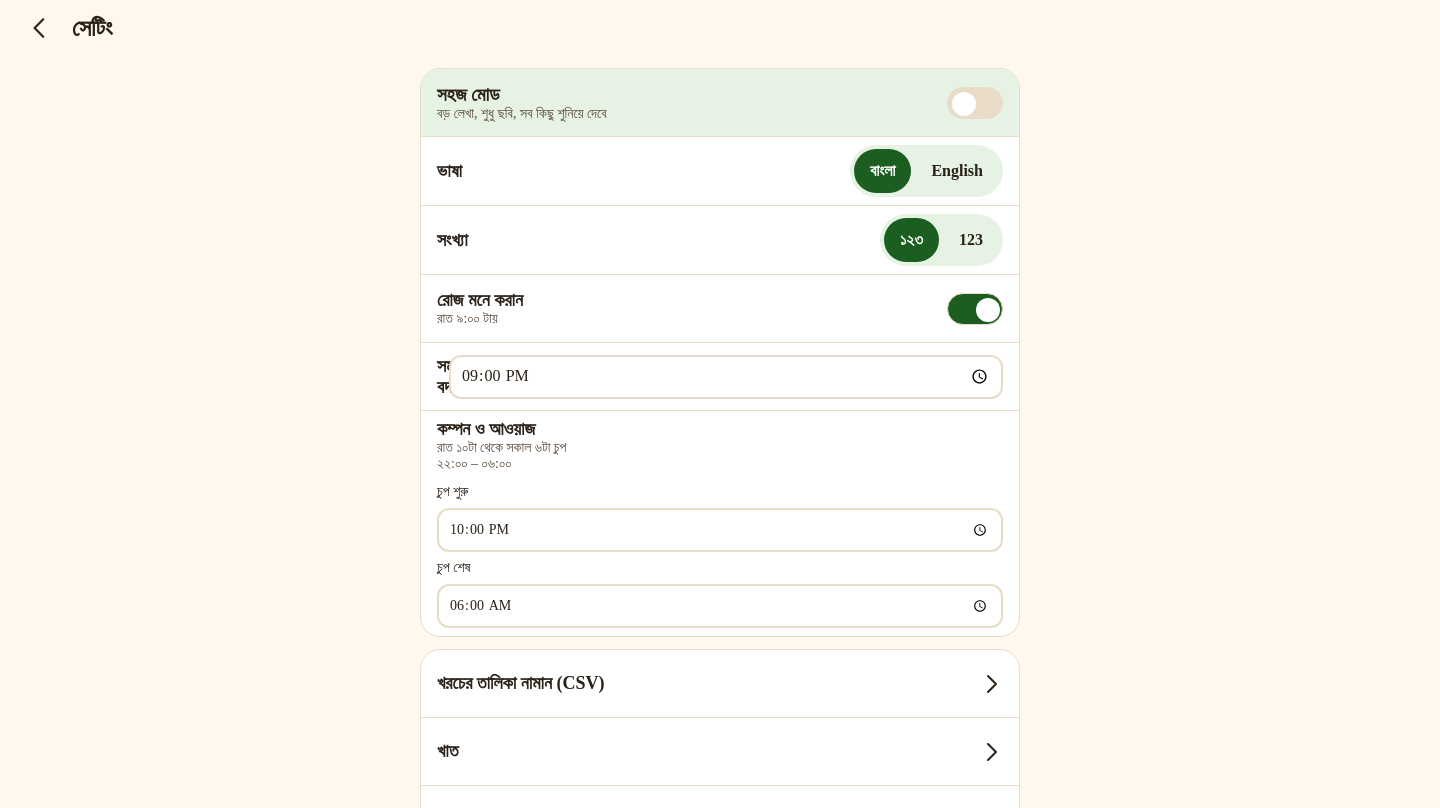
Test: settings page › failed save rolls back
The image size is (1440, 808).
Click the checkbox labelled "রোজ মনে করান".
click(975, 308)  # box [947,292,1003,324]
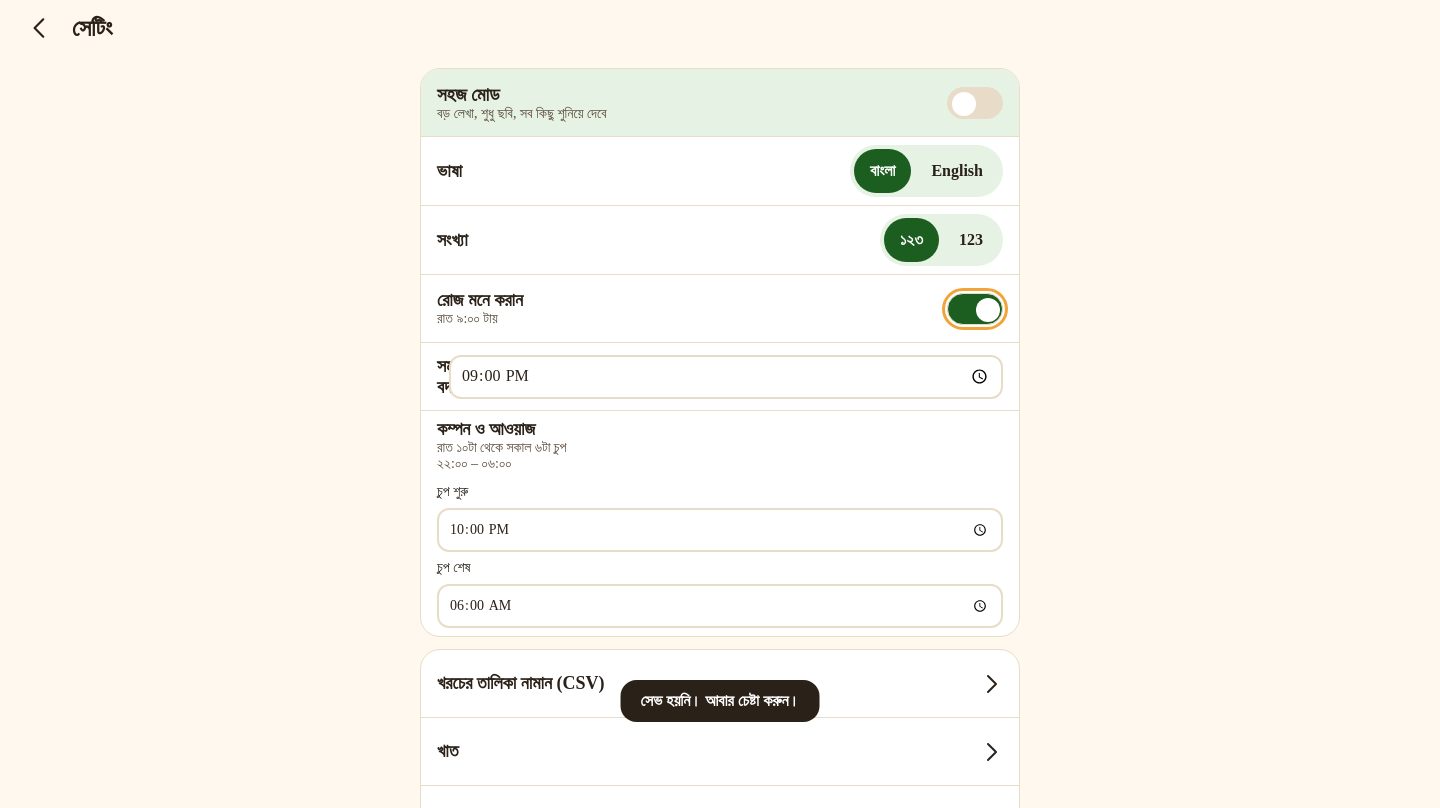
Check: the text "সেভ হয়নি। আবার চেষ্টা করুন।" is shown, box [620,680,820,722]
